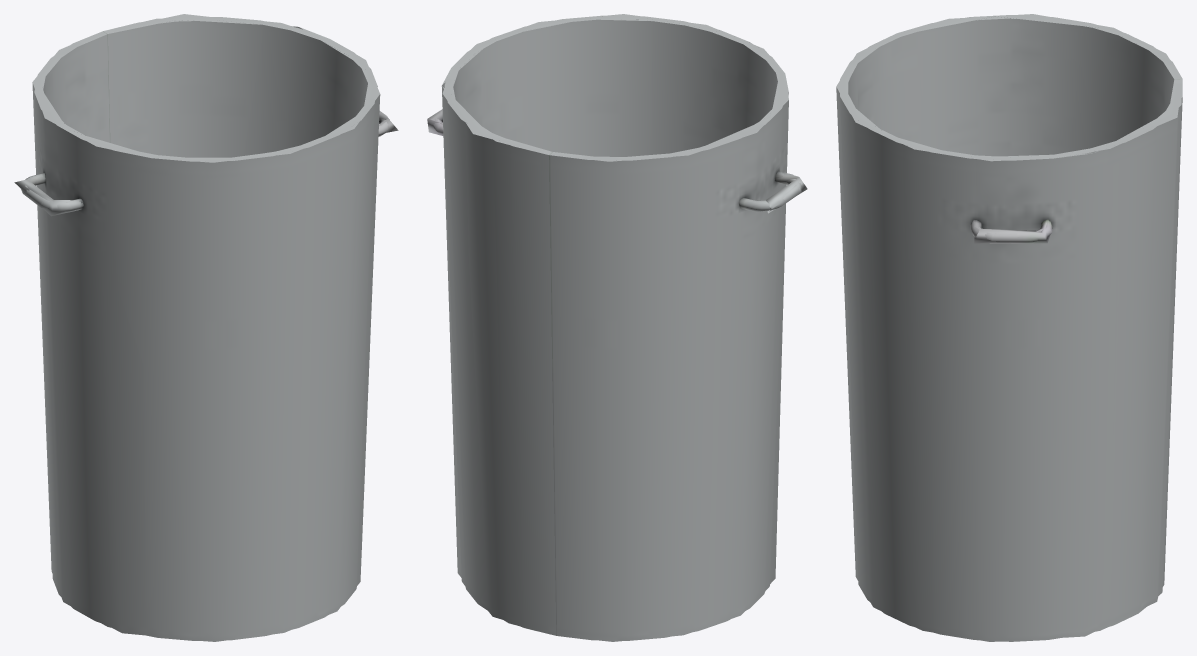
File: street-trash.glb
3 renders of one model, left to right at view 1: azimuth 30°, elevation 25°; view 2: azimuth 150°, elevation 25°; view 3: azimuth 270°, elevation 25°, orthographic.
Parts seen in each view (by area): view 1: SM_CityProps_GarbareCans_B_LOD0; view 2: SM_CityProps_GarbareCans_B_LOD0; view 3: SM_CityProps_GarbareCans_B_LOD0.
Part boxes in pixels (x1,y1,x2,y2): SM_CityProps_GarbareCans_B_LOD0: (14, 14, 398, 641); SM_CityProps_GarbareCans_B_LOD0: (427, 14, 807, 641); SM_CityProps_GarbareCans_B_LOD0: (836, 14, 1182, 641).
Size of the model in its own units: 0.7879 by 1.05 by 0.6738.
Materials: 1 (1 with a texture image).
